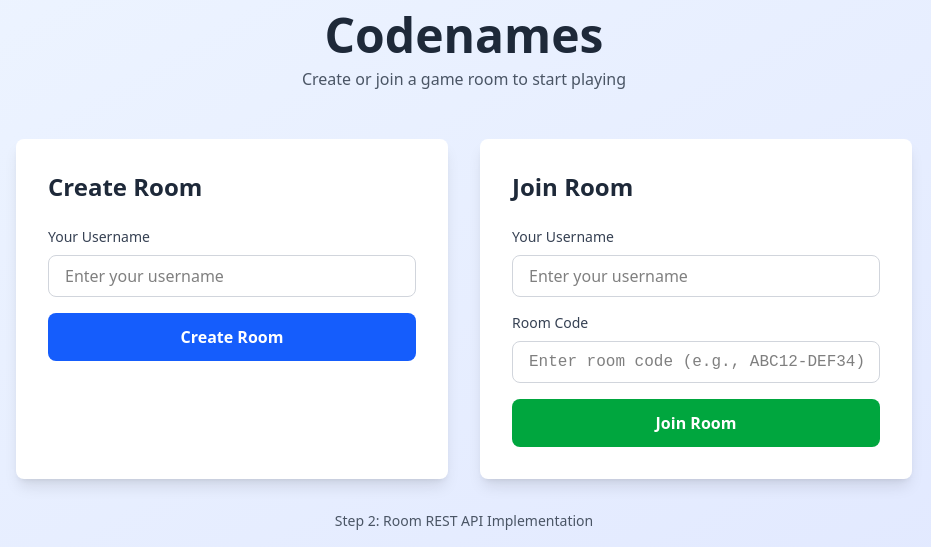
Test: HomePage › should show error when username is empty on create
Click the button "Create Room" at (232, 337), box [48,313,416,361]
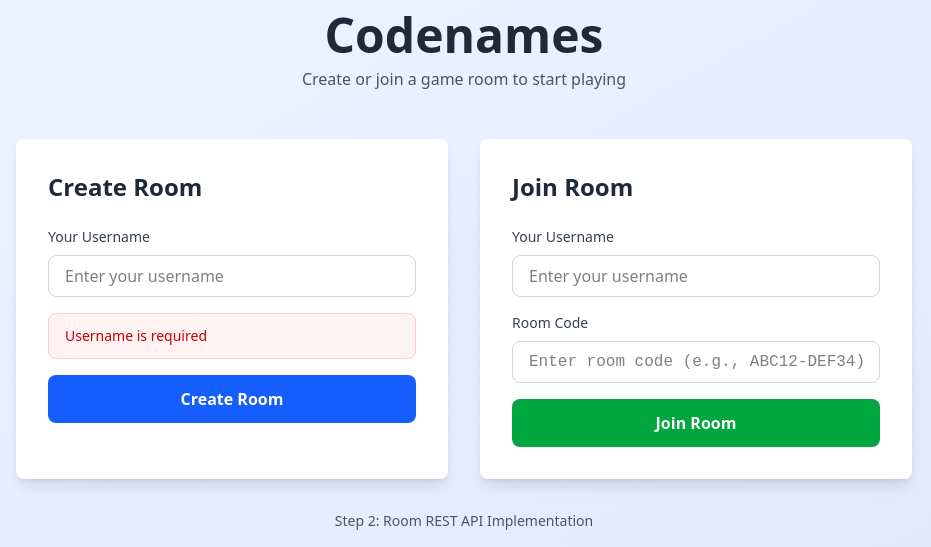
Expected: the text "Username is required" is shown, [48,313,416,359]
